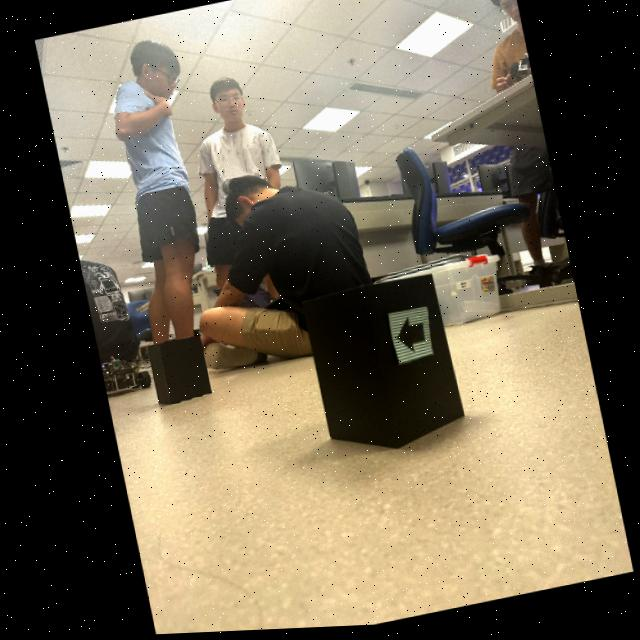LEFT: (395, 321, 422, 355)
